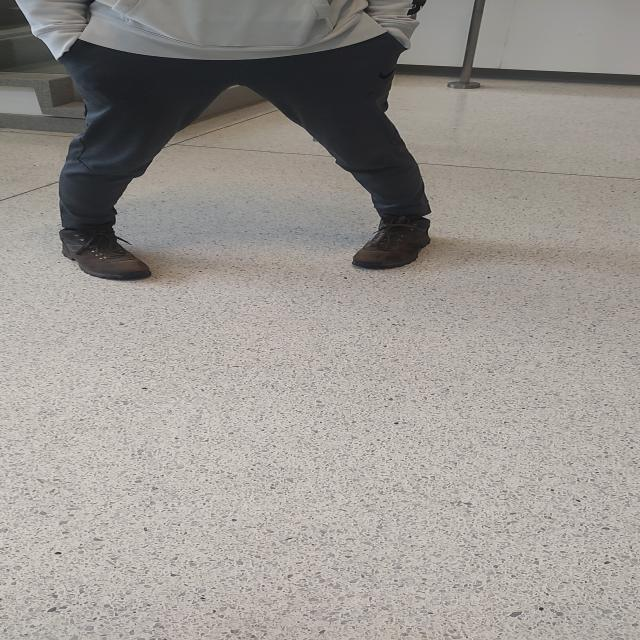Boots: (49, 226, 157, 284), (348, 215, 439, 272)
